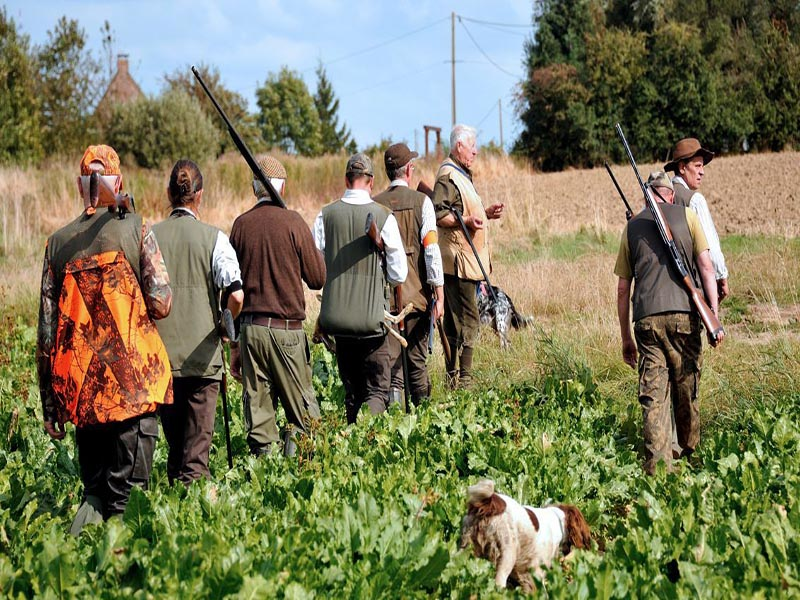cacciatore: (38, 136, 172, 547), (619, 166, 729, 473), (146, 160, 244, 464), (237, 148, 328, 471), (316, 153, 405, 435), (432, 124, 495, 398), (385, 140, 442, 414)
cane da caccia: (445, 465, 600, 581)
fucile: (620, 126, 718, 336), (184, 68, 289, 212)
